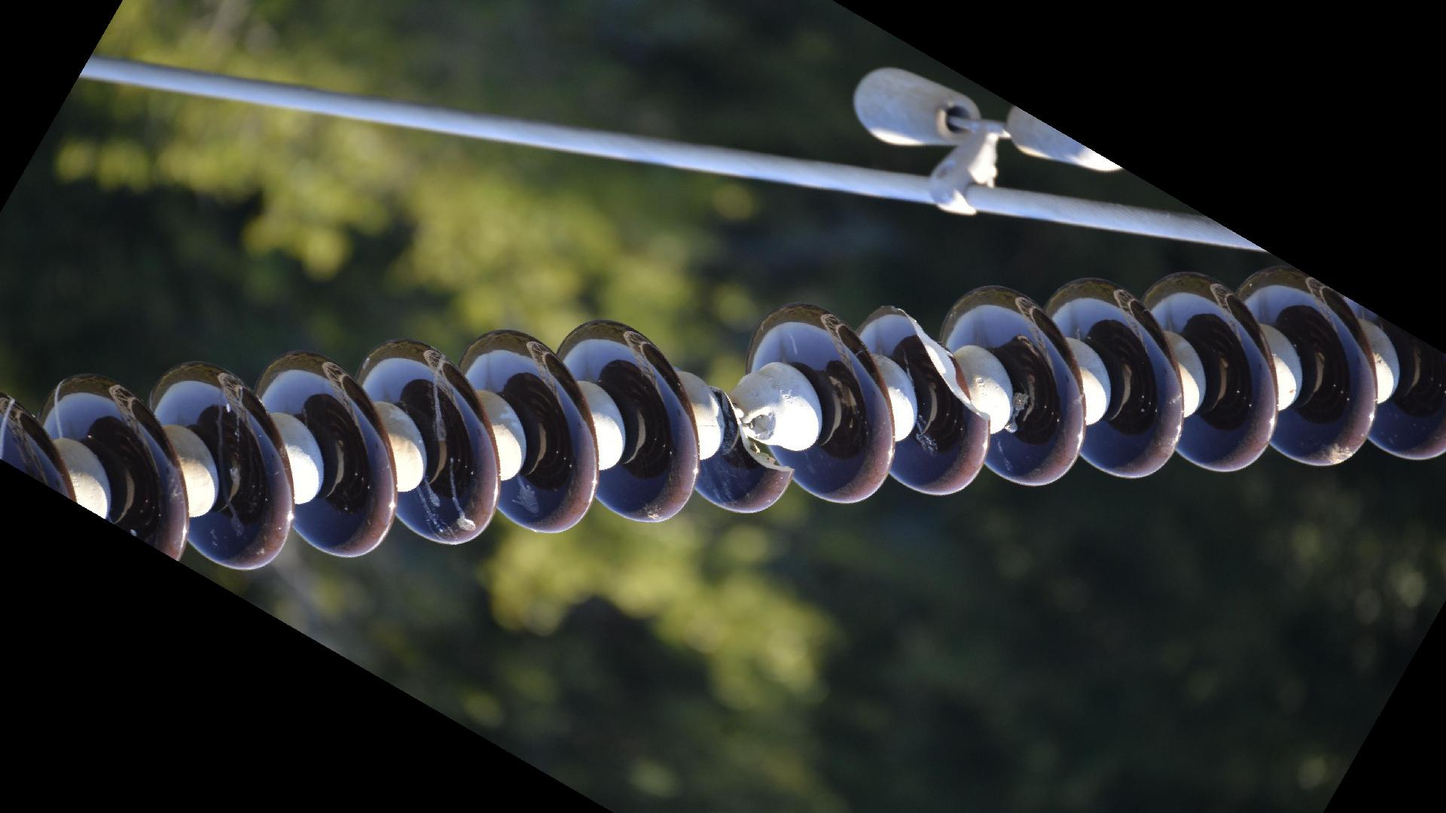insulator: (1, 247, 1446, 577)
insulator_breakage: (880, 299, 994, 434), (707, 379, 801, 488)
